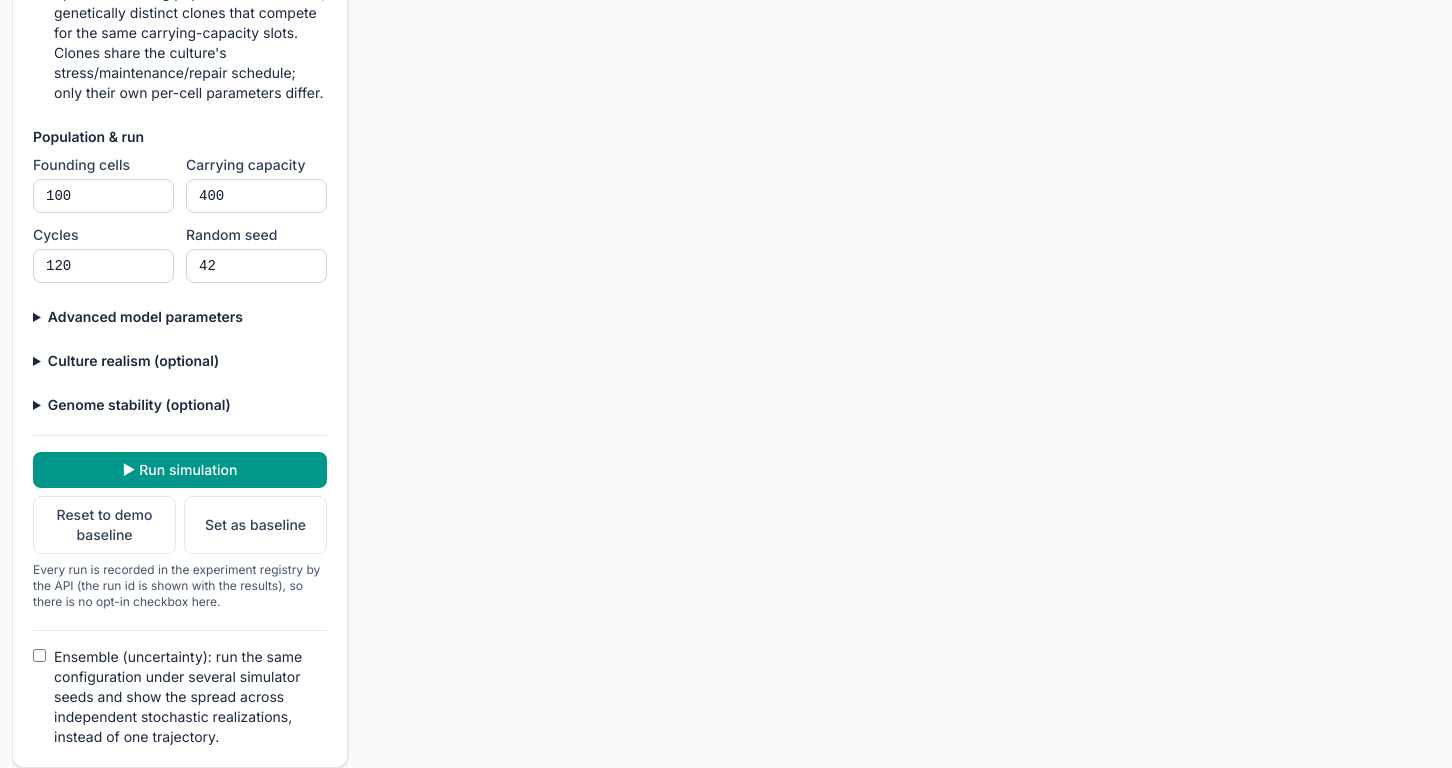
Scenario: Simulate page › "Set as baseline" stores the config for the Evolve page
The width and height of the screenshot is (1452, 768).
(page scrolled)
Click the button "Set as baseline". click: x=256, y=524
box: [184,496,327,554]
(page scrolled)
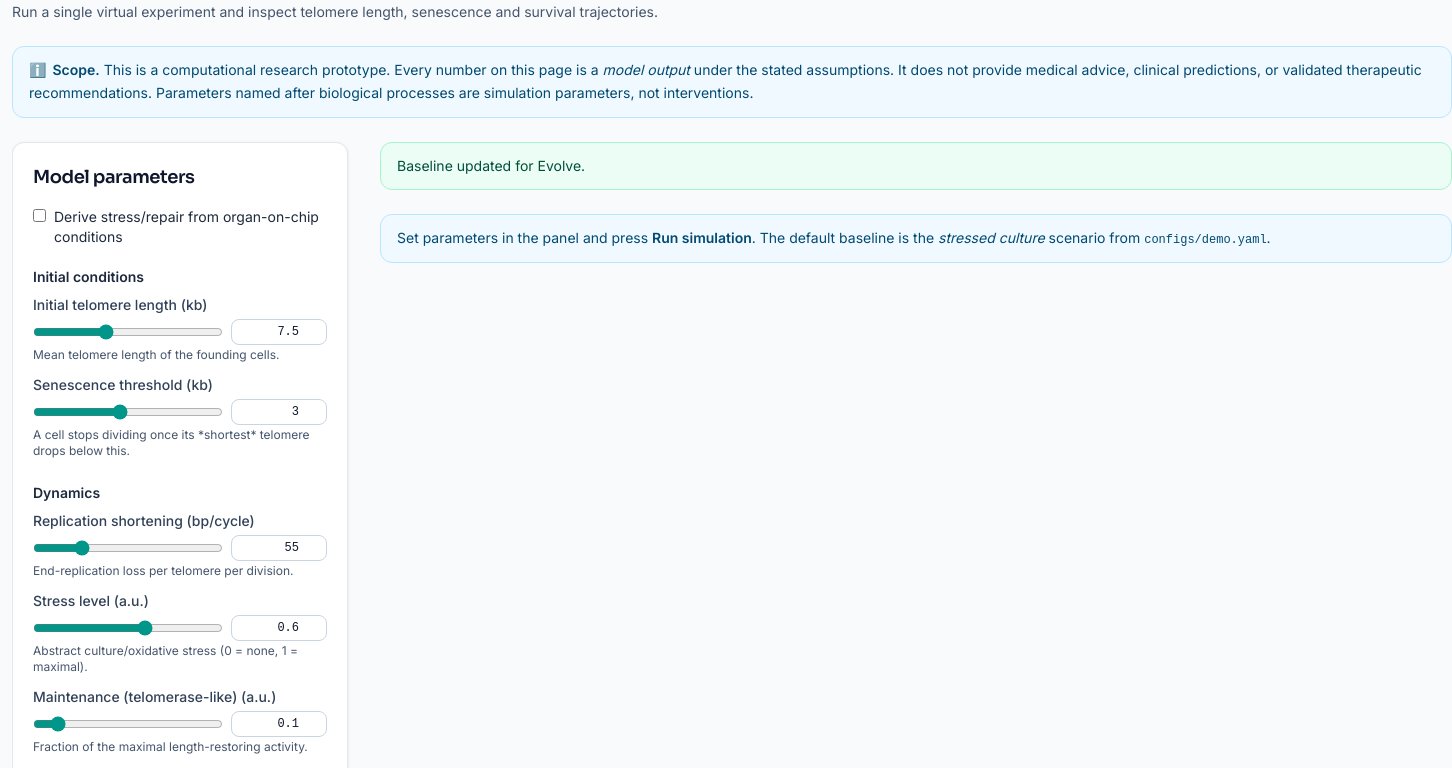
Expected: the message reads "Baseline updated for Evolve.", [397,156,585,174]
